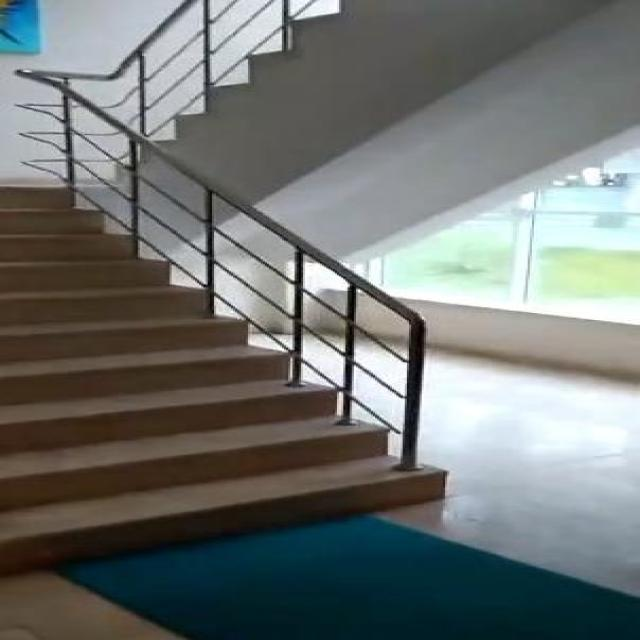Stairs: (0, 41, 426, 547)
